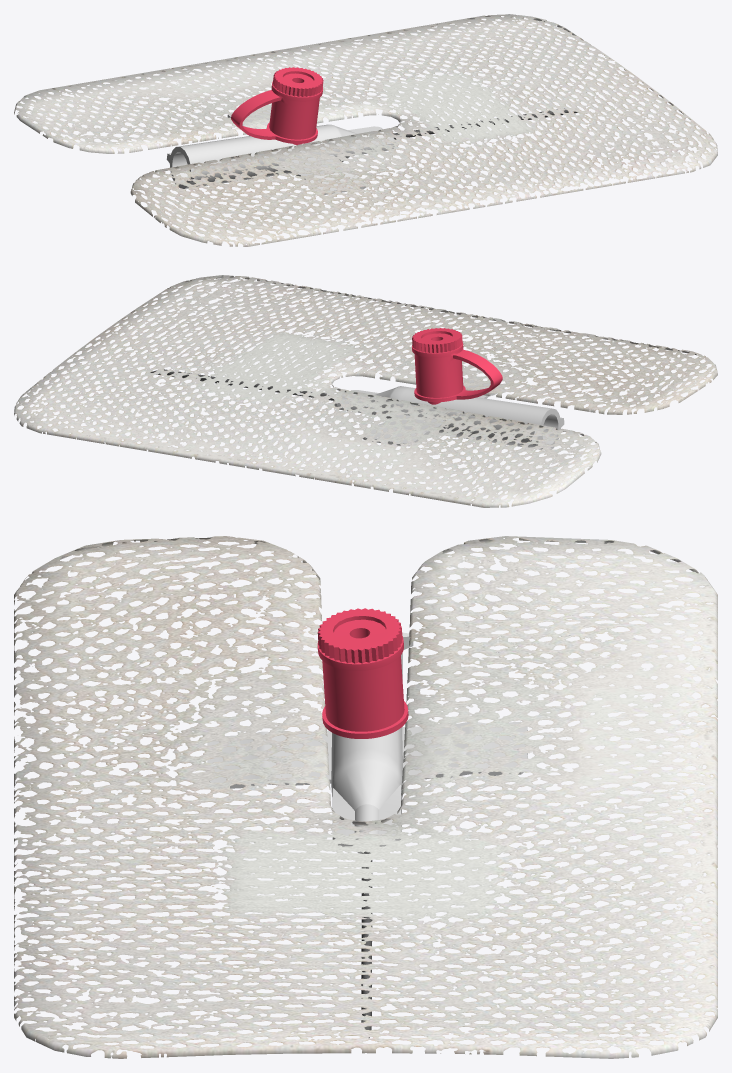
Rendered from IV Cannulation_Cathether.fbx.
The picture shows the model from 3 angles, top to bottom: view 1: azimuth 30°, elevation 25°; view 2: azimuth 150°, elevation 25°; view 3: azimuth 270°, elevation 25°; orthographic projection. The views are drawn at different scales.
Parts seen in each view (by area): view 1: Stickyplaster, Catheter hub_wings, Luer connector_injection port_cap; view 2: Stickyplaster, Catheter hub_wings, Luer connector_injection port_cap; view 3: Stickyplaster, Catheter hub_wings, Luer connector_injection port_cap.
Boxes of the visible parts, left/top/right/bottom form: Stickyplaster: left=14, top=14, right=717, bottom=246; Catheter hub_wings: left=166, top=108, right=395, bottom=194; Luer connector_injection port_cap: left=231, top=67, right=323, bottom=145; Stickyplaster: left=14, top=275, right=717, bottom=507; Catheter hub_wings: left=333, top=378, right=564, bottom=450; Luer connector_injection port_cap: left=412, top=328, right=502, bottom=404; Stickyplaster: left=14, top=536, right=717, bottom=1058; Catheter hub_wings: left=207, top=632, right=527, bottom=853; Luer connector_injection port_cap: left=317, top=608, right=408, bottom=738.
Bounding box in the file's own units: 6.16 × 1.16 × 4.11.
5 materials, 1 textured.
